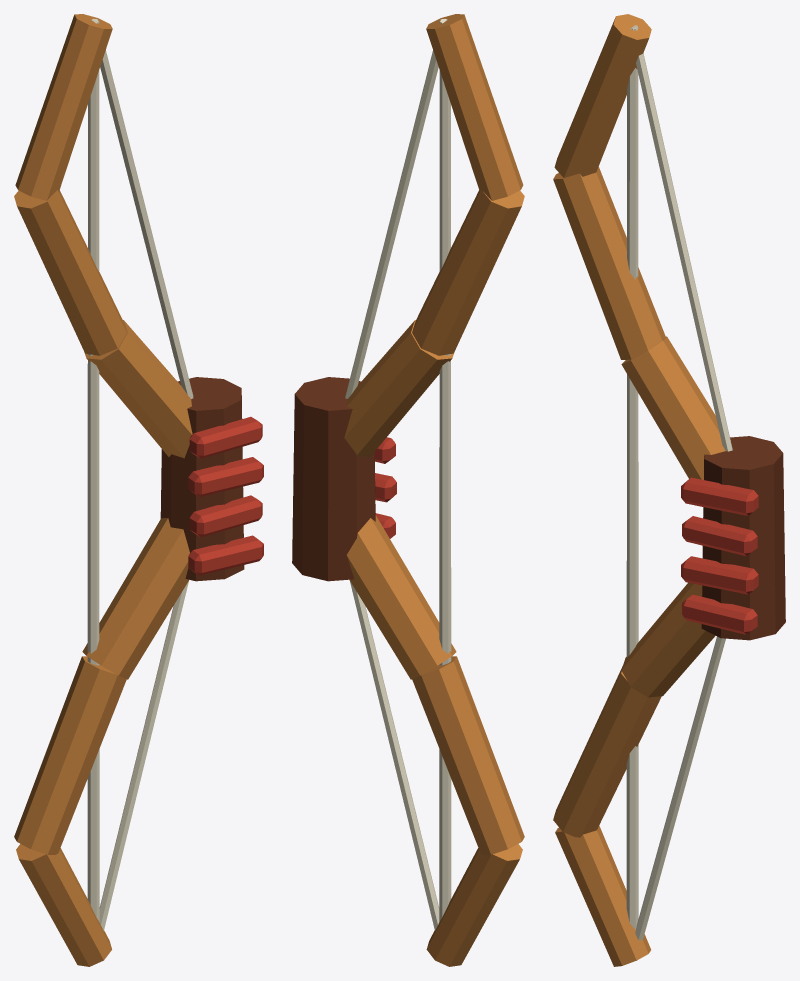
Rendered from short_bow_world.glb.
The picture shows the model from 3 angles, left to right: view 1: azimuth 30°, elevation 25°; view 2: azimuth 150°, elevation 25°; view 3: azimuth 330°, elevation 25°; orthographic projection.
Parts seen in each view (by area): view 1: Bow_Lower_2, Bow_Upper_2, Bow_Lower_1, Bow_Upper_3, Bow_String, Bow_Grip, Bow_Upper_1, Bow_Lower_3, Bow_String_Upper, Bow_String_Lower, Bow_Wrap_1, Bow_Wrap_3 (+2 smaller); view 2: Bow_Grip, Bow_Lower_2, Bow_Upper_2, Bow_Lower_1, Bow_Upper_3, Bow_String, Bow_Upper_1, Bow_Lower_3, Bow_String_Upper, Bow_String_Lower, Bow_Wrap_2; view 3: Bow_Grip, Bow_Upper_2, Bow_String, Bow_Lower_2, Bow_Upper_1, Bow_Upper_3, Bow_Lower_3, Bow_Lower_1, Bow_String_Upper, Bow_String_Lower, Bow_Wrap_4, Bow_Wrap_2 (+2 smaller).
Boxes of the visible parts, x1,y1,x2,y2 form: Bow_Lower_2: (14,656,126,854); Bow_Upper_2: (14,190,126,355); Bow_Lower_1: (82,518,189,679); Bow_Upper_3: (15,14,112,200); Bow_String: (87,21,99,921); Bow_Grip: (160,377,244,581); Bow_Upper_1: (84,320,192,458); Bow_Lower_3: (16,844,111,966); Bow_String_Upper: (91,18,193,398); Bow_String_Lower: (99,581,188,930); Bow_Wrap_1: (188,535,263,575); Bow_Wrap_3: (188,457,263,497); Bow_Grip: (292,377,375,581); Bow_Lower_2: (412,656,524,854); Bow_Upper_2: (412,190,524,355); Bow_Lower_1: (346,515,456,679); Bow_Upper_3: (426,14,523,200); Bow_String: (439,21,451,921); Bow_Upper_1: (344,320,454,457); Bow_Lower_3: (426,844,522,966); Bow_String_Upper: (345,18,447,398); Bow_String_Lower: (350,581,439,930); Bow_Wrap_2: (375,473,396,502); Bow_Grip: (701,436,785,640); Bow_Upper_2: (553,167,665,359); Bow_String: (626,26,638,929); Bow_Lower_2: (553,666,661,837); Bow_Upper_1: (621,336,730,479); Bow_Upper_3: (554,14,651,177); Bow_Lower_3: (555,825,650,966); Bow_Lower_1: (621,582,715,697); Bow_String_Upper: (631,25,732,451); Bow_String_Lower: (635,636,725,960); Bow_Wrap_4: (681,477,758,515); Bow_Wrap_2: (681,556,758,594).
Size of the model in its own units: 0.3867 by 1.57 by 0.1507.
